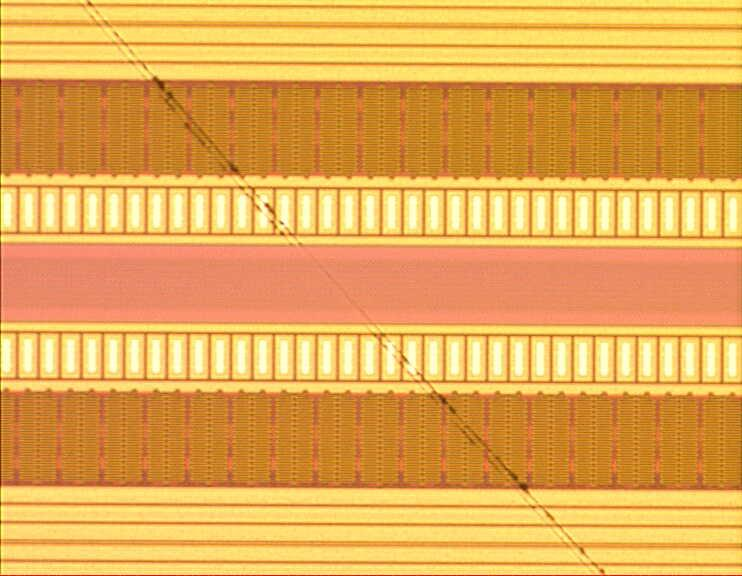SCRATCH: (67, 1, 616, 576)
